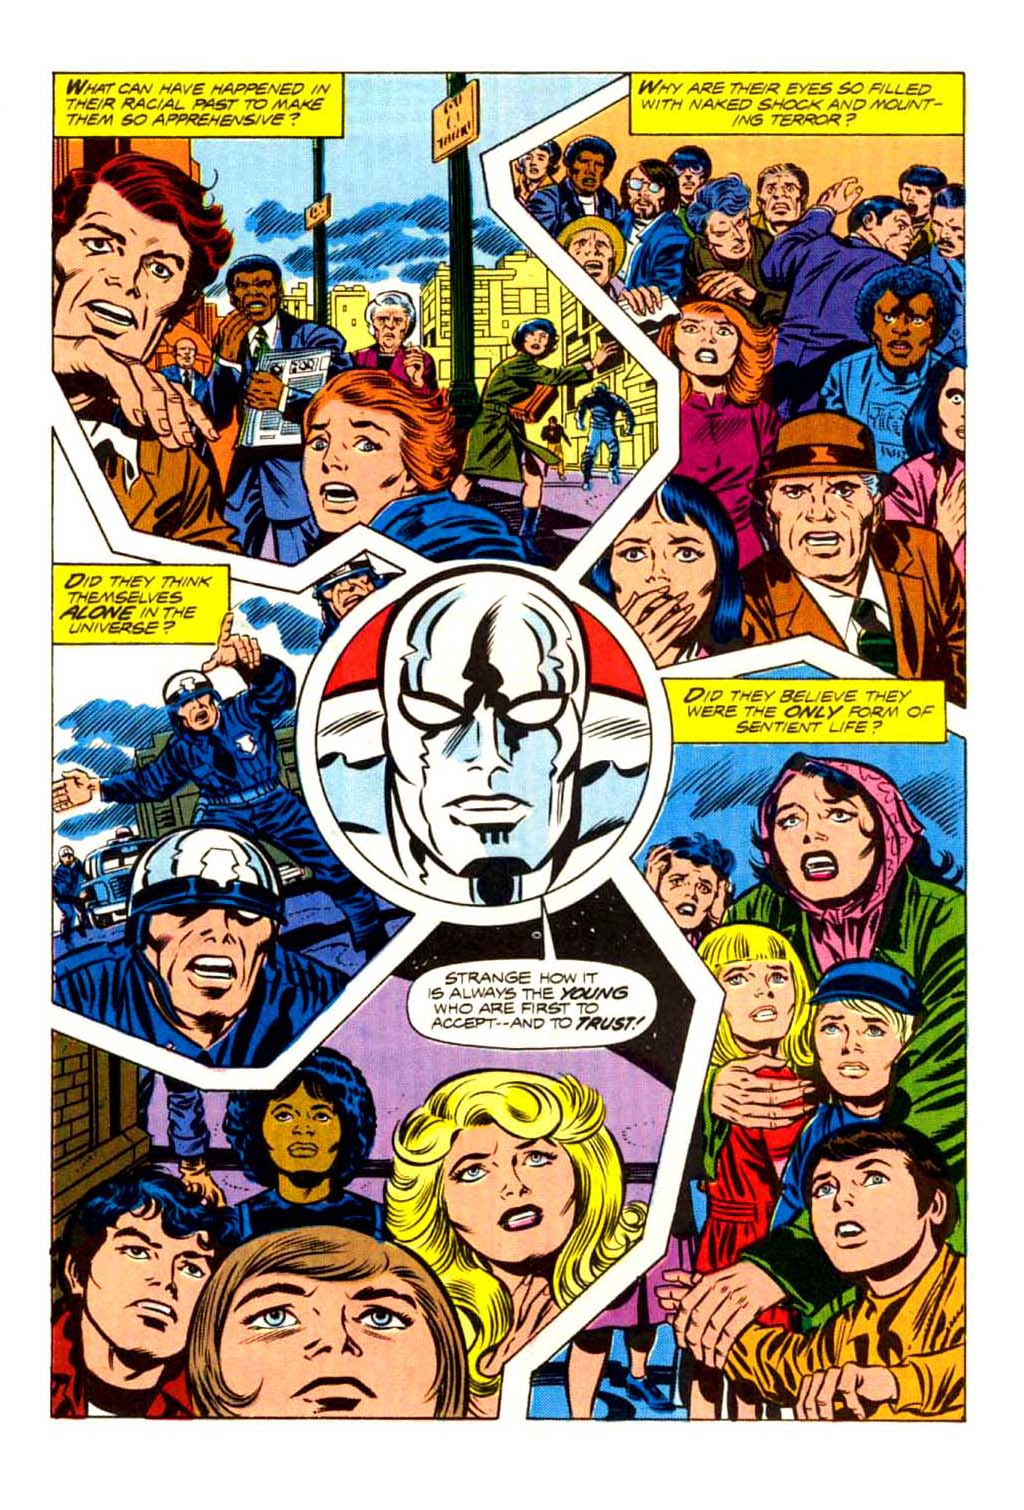Baloon: (408, 957, 657, 1055), (632, 71, 971, 131), (53, 73, 343, 141), (662, 676, 943, 743), (48, 559, 229, 644)
Vignetta: (527, 655, 962, 1429), (53, 890, 688, 1419), (55, 73, 678, 566), (507, 71, 971, 711), (43, 436, 413, 1071), (313, 572, 657, 911)
